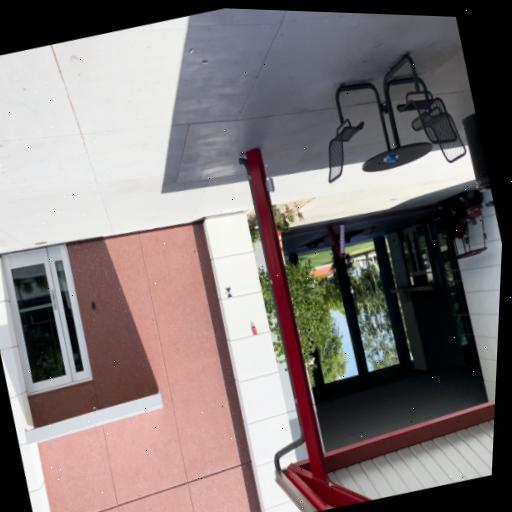target9: (225, 286, 233, 299)
